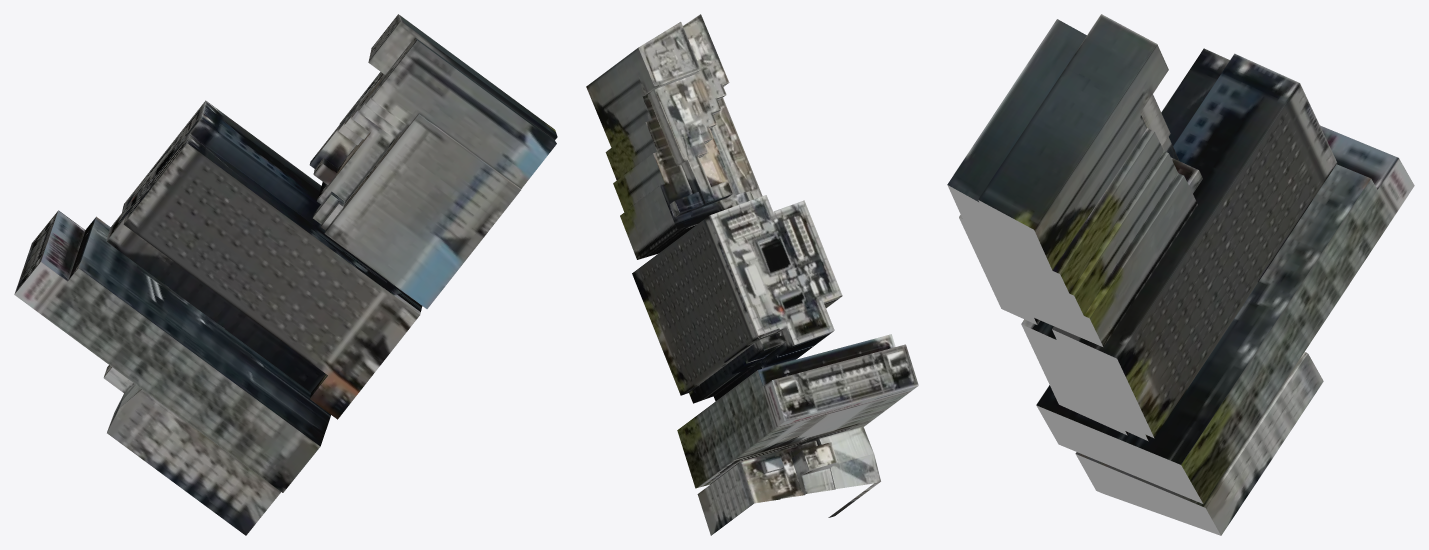
The model's file is 39531_bldg_Building.glb.
The picture shows the model from 3 angles, left to right: view 1: azimuth 30°, elevation 25°; view 2: azimuth 150°, elevation 25°; view 3: azimuth 270°, elevation 25°; orthographic projection. The views are drawn at different scales.
Bounding box in the file's own units: 84.02 × 86.28 × 64.2.
Materials: 2 (1 with a texture image).
